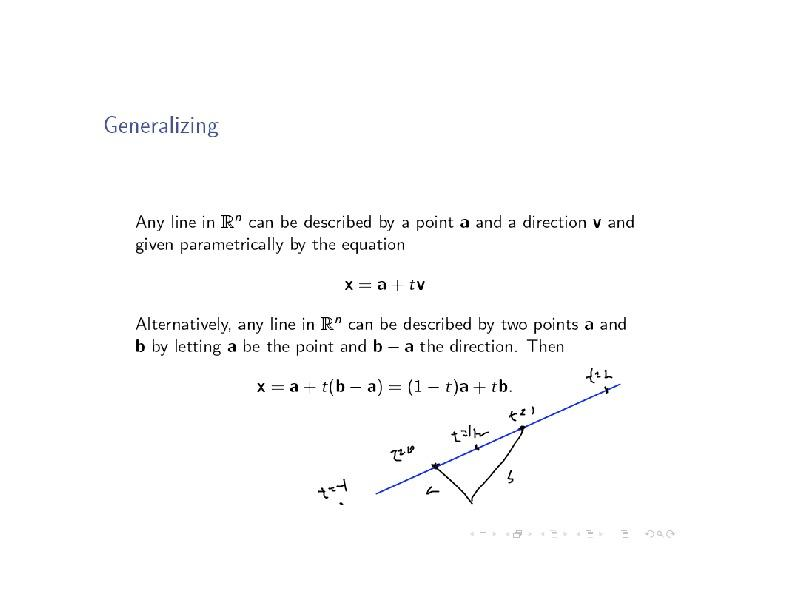paragraph: (123, 194, 725, 561)
title: (97, 105, 231, 151)
